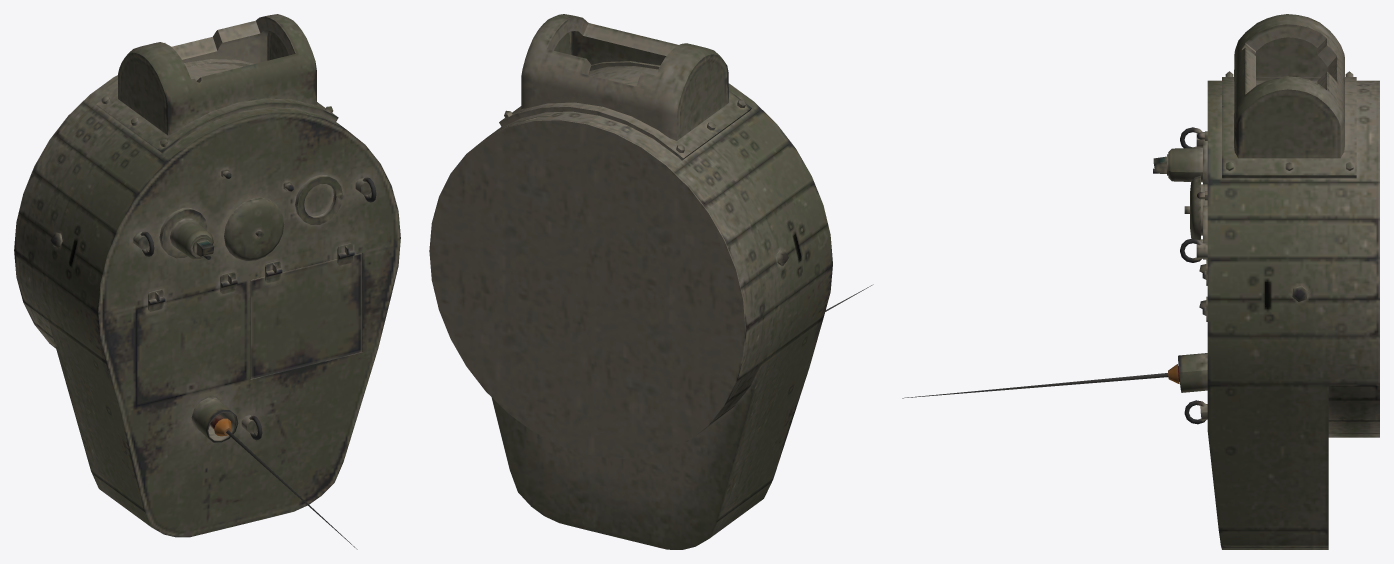
Rendered from Turret_02.glb.
3 views of the same model, side by side, from view 1: azimuth 30°, elevation 25°; view 2: azimuth 150°, elevation 25°; view 3: azimuth 270°, elevation 25° (orthographic). The views are drawn at different scales.
Parts seen in each view (by area): view 1: set_0_group_0; view 2: set_0_group_0; view 3: set_0_group_0.
Part boxes in pixels (left/top/right/bottom): set_0_group_0: left=14, top=14, right=400, bottom=549; set_0_group_0: left=429, top=14, right=873, bottom=549; set_0_group_0: left=902, top=14, right=1379, bottom=549.
Bounding box in the file's own units: 1.34 × 1.97 × 1.76.
Materials: 1 (1 with a texture image).
